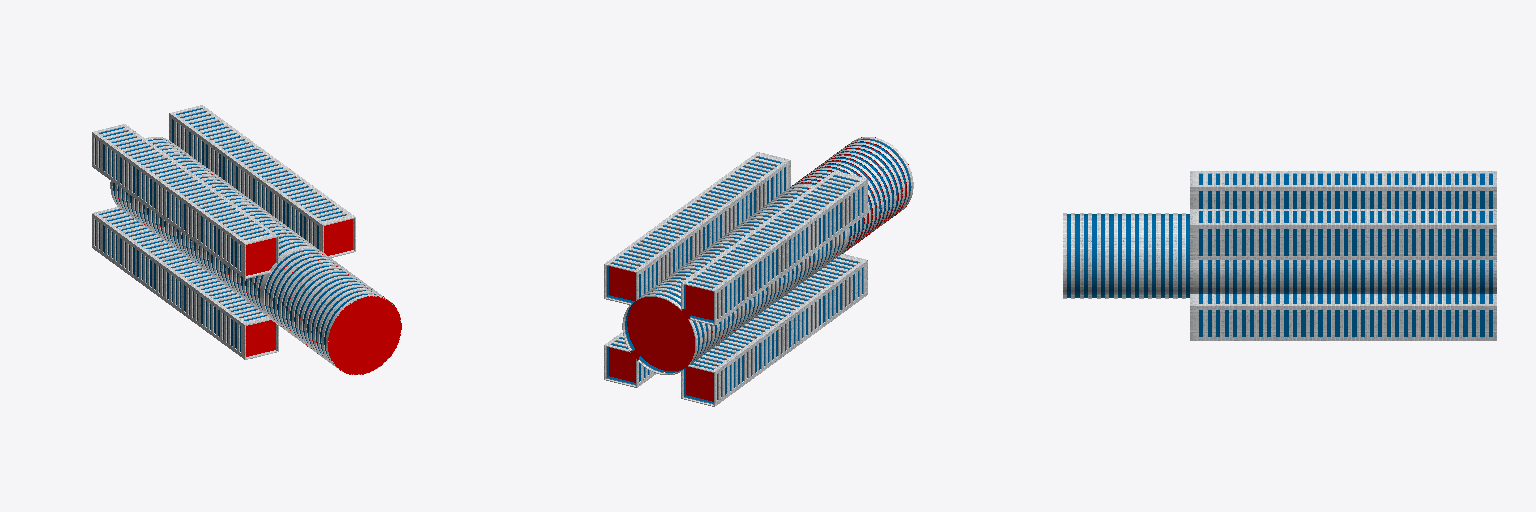
3 views of the same model, side by side, from view 1: azimuth 30°, elevation 25°; view 2: azimuth 150°, elevation 25°; view 3: azimuth 270°, elevation 25° (orthographic).
Visible parts, largest first — view 1: Wall_01, Glass_01, Slab_01, Wall_03, Wall_02; view 2: Wall_01, Glass_01, Slab_01, Wall_03, Wall_02; view 3: Wall_01, Glass_01, Wall_02.
Boxes of the visible parts, x1,y1,x2,y2 form: Wall_01: [92, 105, 387, 367]; Glass_01: [95, 108, 375, 359]; Slab_01: [117, 167, 401, 374]; Wall_03: [94, 108, 400, 374]; Wall_02: [94, 107, 350, 356]; Wall_01: [605, 137, 913, 405]; Glass_01: [607, 139, 910, 403]; Slab_01: [609, 137, 908, 401]; Wall_03: [604, 138, 911, 406]; Wall_02: [606, 155, 863, 404]; Wall_01: [1063, 171, 1496, 340]; Glass_01: [1067, 174, 1492, 336]; Wall_02: [1199, 171, 1492, 340].
Bounding box in the file's own units: 1800 × 1800 × 6120.
Materials: 3 (1 with a texture image).